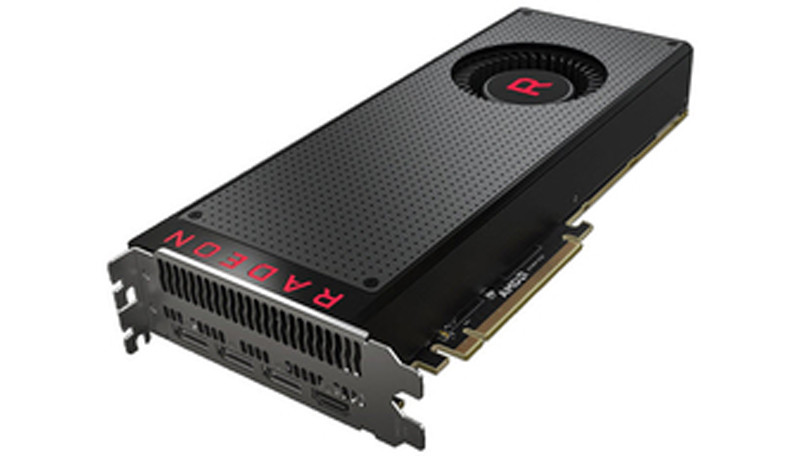PCIE Graphics Card: (89, 4, 736, 454)
